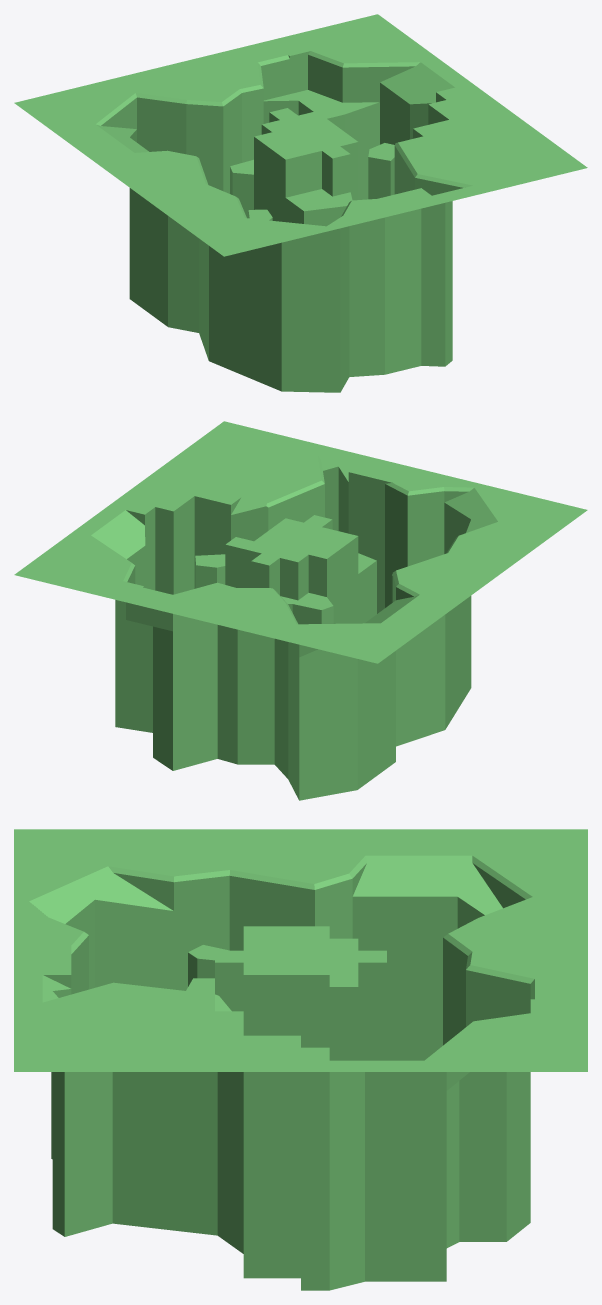
Rendered from x_oo_ground_37_Y8_1_rmstrd.fbx.
The picture shows the model from 3 angles, top to bottom: view 1: azimuth 30°, elevation 25°; view 2: azimuth 150°, elevation 25°; view 3: azimuth 270°, elevation 25°; orthographic projection. The views are drawn at different scales.
Parts seen in each view (by area): view 1: x_oo_ground_37_Y8_1_rmstrd1; view 2: x_oo_ground_37_Y8_1_rmstrd1; view 3: x_oo_ground_37_Y8_1_rmstrd1.
Boxes of the visible parts, x1,y1,x2,y2 form: x_oo_ground_37_Y8_1_rmstrd1: [14, 14, 587, 392]; x_oo_ground_37_Y8_1_rmstrd1: [14, 421, 587, 800]; x_oo_ground_37_Y8_1_rmstrd1: [14, 829, 587, 1290].
Size of the model in its own units: 20 by 9.34 by 20.
